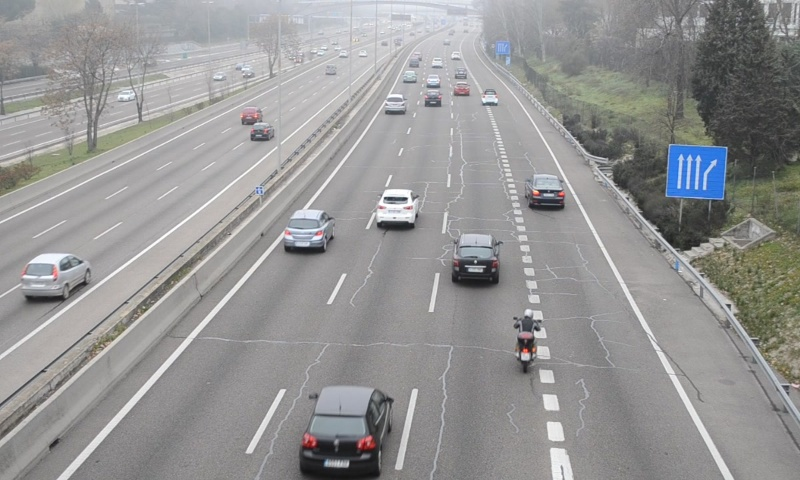car: (298, 384, 392, 478), (452, 233, 500, 286), (283, 208, 334, 250), (376, 188, 418, 224), (526, 174, 565, 207), (383, 92, 407, 114), (480, 88, 498, 106), (424, 89, 441, 107), (453, 80, 471, 96)
motorcycle: (512, 309, 543, 376)
